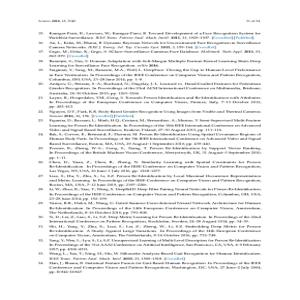text: (34, 30, 261, 278)
